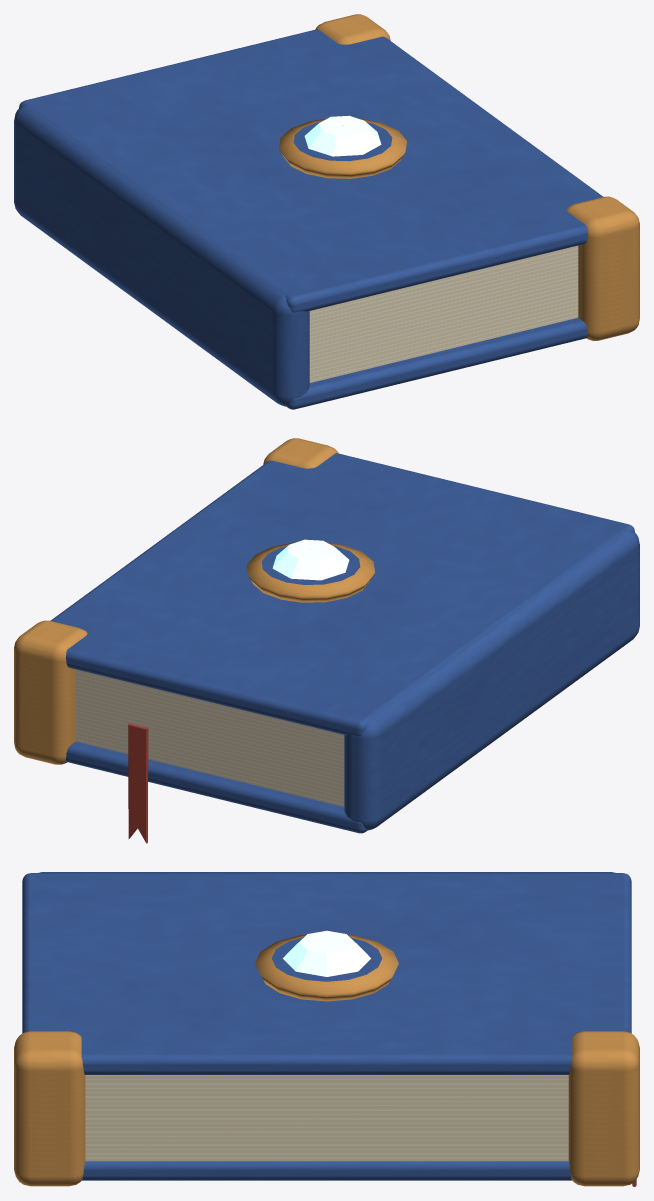
Rendered from book_frost_nova.glb.
3 renders of one model, top to bottom at view 1: azimuth 30°, elevation 25°; view 2: azimuth 150°, elevation 25°; view 3: azimuth 270°, elevation 25°, orthographic. The views are drawn at different scales.
Visible parts, largest first — view 1: book_frost_nova; view 2: book_frost_nova; view 3: book_frost_nova.
Part boxes in pixels (x1,y1,x2,y2): book_frost_nova: (14,14,639,409); book_frost_nova: (14,438,639,843); book_frost_nova: (14,872,639,1186).
Size of the model in its own units: 0.167 by 0.088 by 0.226.
Materials: 5 (4 with a texture image).
